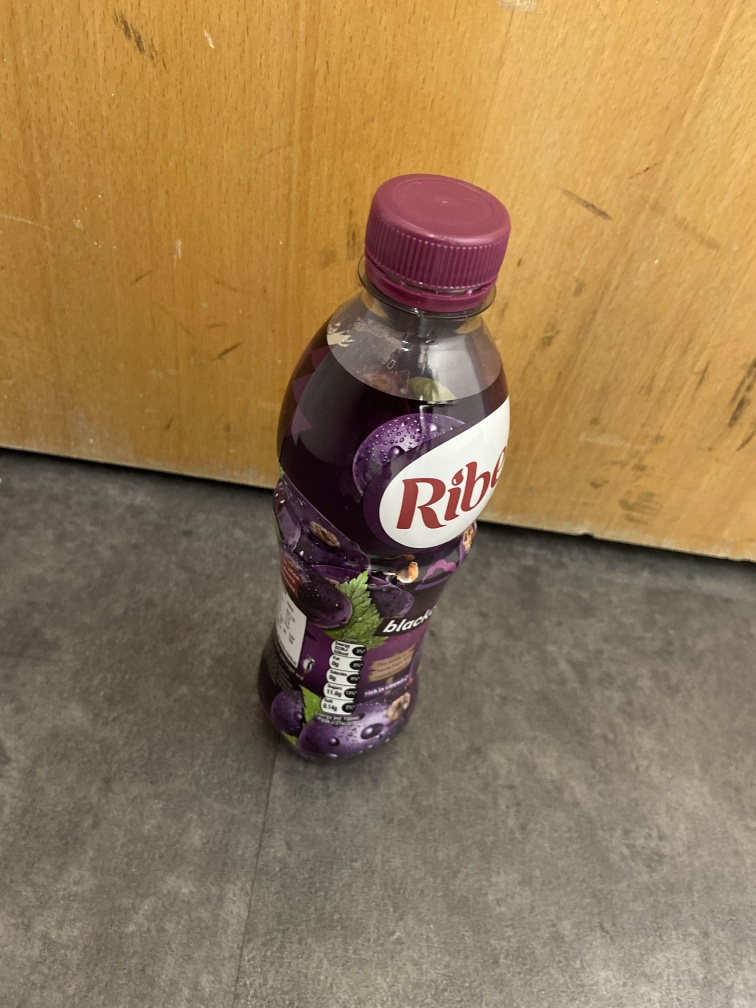bottle_purple: (253, 163, 518, 773)
